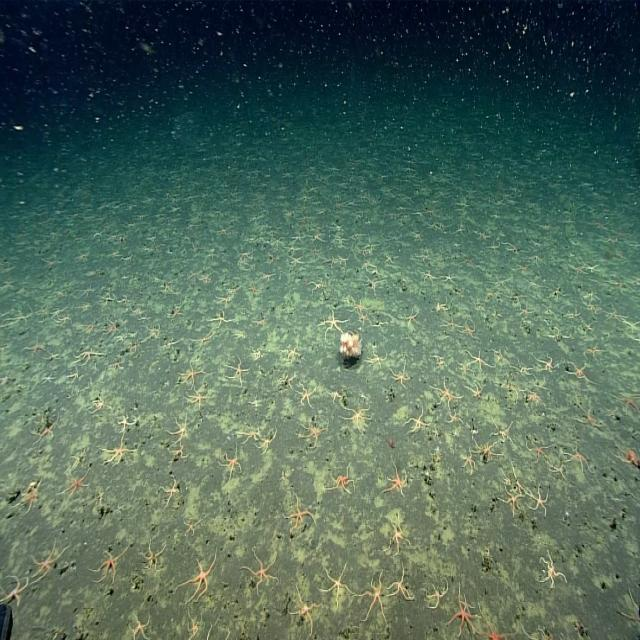brittle-stars: (448, 587, 482, 640), (179, 554, 216, 602), (358, 568, 388, 627), (31, 538, 69, 582), (319, 561, 353, 605), (243, 550, 278, 590), (290, 583, 318, 633), (480, 602, 516, 640), (92, 547, 126, 585), (383, 511, 413, 554), (284, 494, 316, 531), (538, 550, 567, 589), (1, 569, 29, 607), (62, 468, 92, 502), (433, 375, 462, 410), (388, 565, 414, 604), (564, 442, 592, 478), (103, 436, 135, 466), (328, 463, 356, 496), (341, 404, 371, 434), (423, 574, 448, 610), (383, 463, 408, 498), (610, 439, 640, 468), (31, 414, 59, 445), (573, 399, 599, 432), (300, 416, 328, 446), (21, 477, 45, 512), (321, 308, 348, 337), (488, 415, 514, 445), (527, 481, 549, 516), (218, 448, 242, 480), (142, 541, 166, 573), (127, 610, 152, 640), (0, 306, 32, 328), (525, 437, 552, 463), (177, 362, 203, 389), (227, 355, 250, 385), (466, 346, 491, 373), (498, 485, 521, 514), (38, 301, 68, 323), (405, 407, 429, 434), (169, 414, 192, 442), (294, 381, 316, 410), (475, 439, 501, 463), (565, 358, 589, 383), (161, 476, 182, 504), (184, 610, 203, 640), (613, 392, 640, 413), (390, 362, 410, 390), (74, 345, 102, 365), (236, 422, 261, 444), (257, 430, 278, 456), (280, 340, 302, 364), (191, 331, 217, 351), (185, 388, 208, 410), (170, 439, 192, 462), (460, 446, 477, 475), (464, 378, 484, 402), (206, 621, 231, 640), (512, 463, 526, 496), (535, 352, 555, 375), (116, 412, 136, 435), (25, 338, 49, 357), (367, 346, 387, 368), (90, 392, 109, 415), (526, 385, 546, 406), (182, 516, 200, 539), (209, 312, 233, 329), (510, 361, 532, 378), (440, 316, 458, 336), (404, 306, 422, 325), (168, 302, 185, 322), (278, 372, 295, 392), (103, 316, 119, 336), (54, 311, 74, 327), (70, 449, 84, 471), (78, 282, 96, 299), (366, 276, 384, 292), (214, 291, 233, 306), (442, 270, 458, 287), (512, 262, 529, 278), (40, 371, 56, 388), (238, 247, 254, 264), (549, 463, 566, 479), (494, 349, 508, 368), (604, 310, 626, 322), (462, 319, 475, 339), (436, 298, 452, 314), (352, 297, 367, 314), (287, 254, 305, 268), (68, 368, 84, 383), (159, 338, 179, 350), (308, 280, 328, 292), (422, 269, 436, 286), (76, 323, 93, 337), (518, 303, 535, 317), (622, 319, 640, 332), (246, 280, 260, 296), (383, 249, 397, 265), (588, 344, 602, 360), (553, 290, 570, 303), (446, 411, 461, 425), (357, 311, 370, 327), (416, 251, 430, 265), (458, 363, 473, 376), (117, 296, 133, 308), (328, 389, 341, 403), (258, 272, 275, 282), (75, 303, 91, 313), (248, 396, 261, 408), (109, 358, 122, 370), (102, 294, 115, 306), (308, 244, 322, 255), (333, 235, 348, 245), (434, 354, 446, 366), (431, 425, 440, 440), (368, 267, 382, 276), (198, 275, 211, 284), (362, 261, 375, 270), (272, 237, 283, 247), (250, 349, 262, 357), (138, 315, 150, 323), (131, 308, 140, 318), (361, 246, 368, 256)
